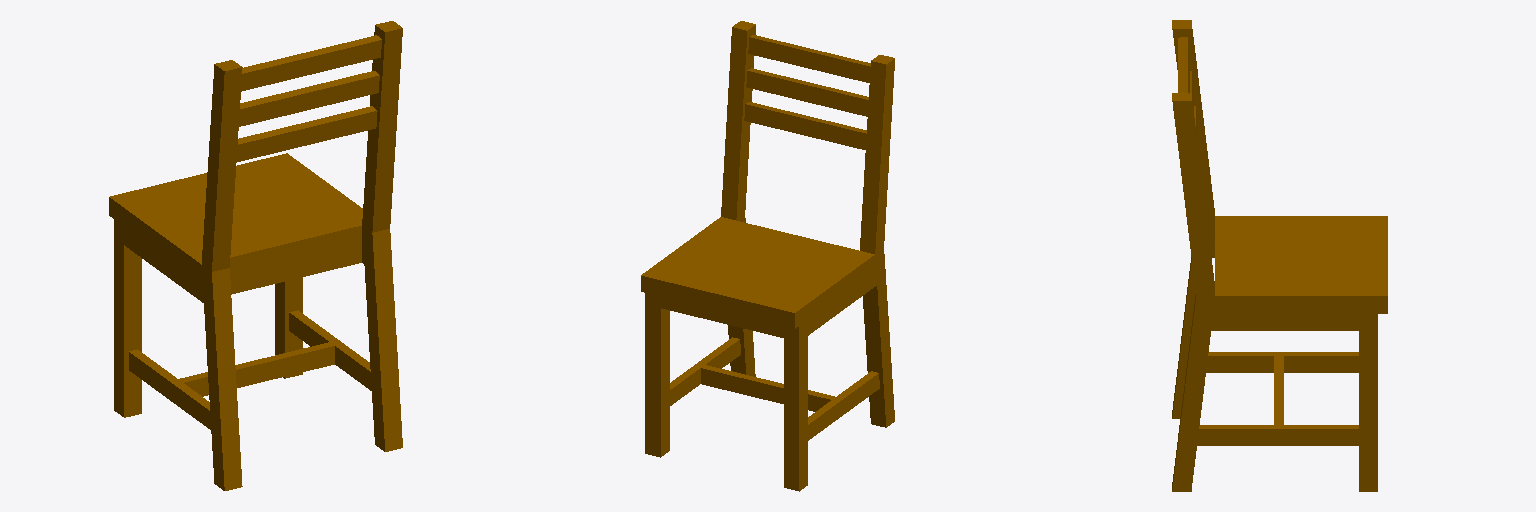
The robot description file, URDF, robot "chair":
<?xml version="1.0"?>
<robot name="chair">
<link name="chair_base_link">
  <inertial>
    <mass value="0.0"/>
    <origin xyz="0 0 0" rpy="0 0 0"/>
    <inertia ixx="0.01" ixy="0" ixz="0" iyy="0.01" iyz="0" izz="0.01"/>
  </inertial>

  <visual>
    <origin xyz="0 0 0" rpy="0 0 0"/>
    <geometry>
      <mesh filename="package://meshes/chair.dae" scale="1 1 1"/>
    </geometry>
    <material name="material_name">
      <color rgba="0.6 0.4 0 1.0"/>
    </material>
  </visual>

  <collision>
    <origin xyz="0 0 0" rpy="0 0 0"/>
    <geometry>
      <mesh filename="package://meshes/chair.dae" scale="1 1 1"/> 
      
      </geometry>
  </collision>
</link>
</robot>

--- Render facts (derived) ---
The picture shows the robot from 3 angles, left to right: view 1: azimuth 30°, elevation 25°; view 2: azimuth 150°, elevation 25°; view 3: azimuth 270°, elevation 25°; orthographic projection.
Robot: chair — 1 links, 0 joints (none); root link chair_base_link; default pose: all joints at 0.
Links seen in each view (by area): view 1: chair_base_link; view 2: chair_base_link; view 3: chair_base_link.
Link boxes in pixels (x1,y1,x2,y2): chair_base_link: [109, 21, 402, 490]; chair_base_link: [641, 21, 894, 491]; chair_base_link: [1172, 20, 1387, 491].
Bounding box of the posed robot: 0.4 × 0.45 × 0.9 m (x, y, z).
Meshes: 1 distinct files referenced, 1 mesh visuals loaded (1 Collada DAE).
